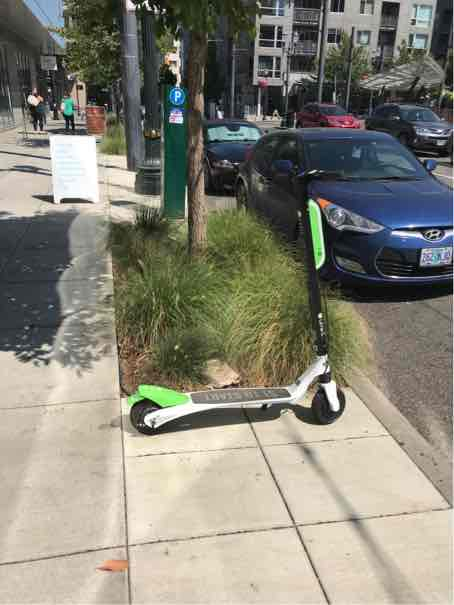scooter: (125, 149, 354, 439)
